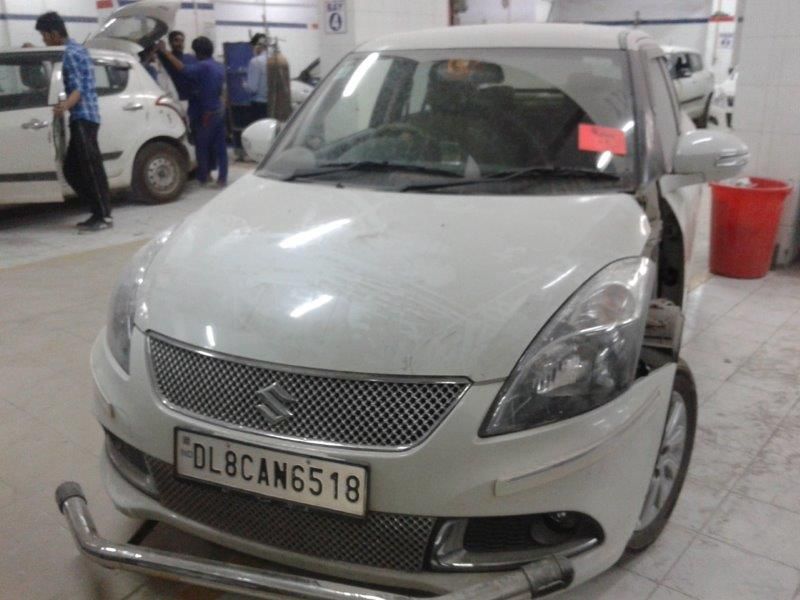Dislocation: (631, 181, 698, 386)
